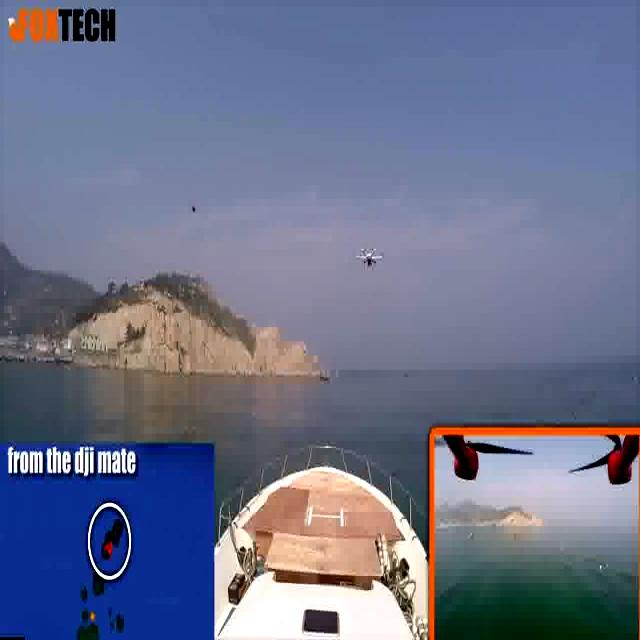drone: (354, 239, 388, 274)
